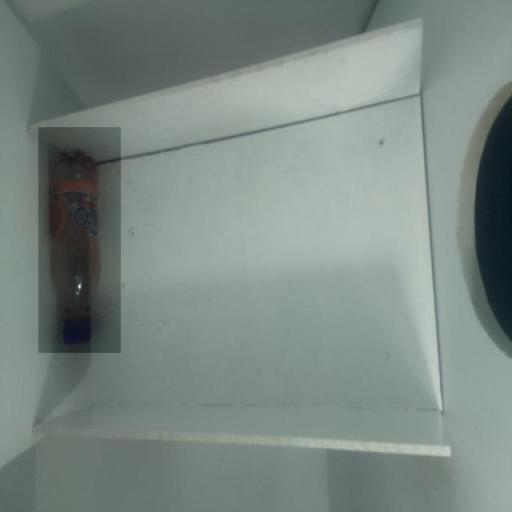plastic: (38, 127, 121, 353)
